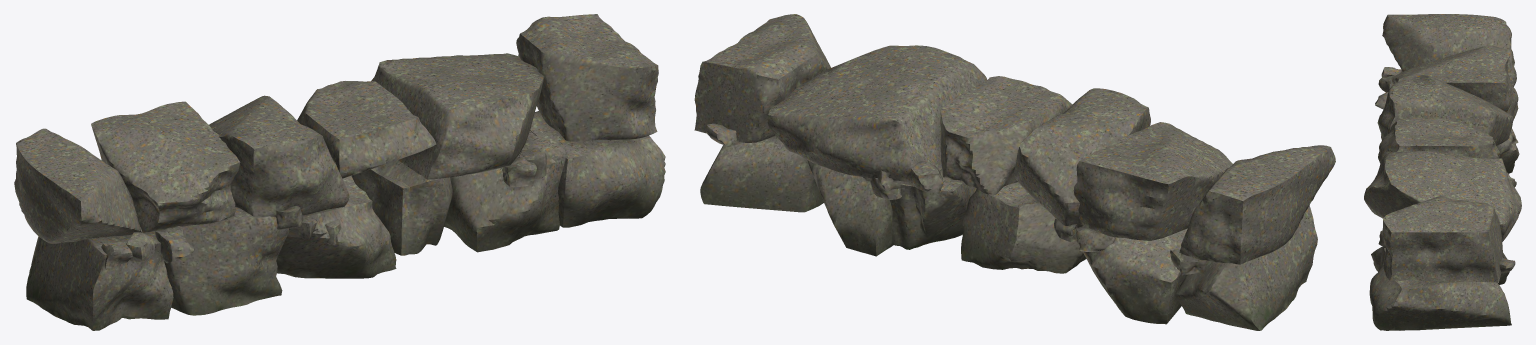
Rendered from foundation_2m.glb.
3 views of the same model, side by side, from view 1: azimuth 30°, elevation 25°; view 2: azimuth 150°, elevation 25°; view 3: azimuth 270°, elevation 25° (orthographic). The views are drawn at different scales.
Parts seen in each view (by area): view 1: foundation_2m; view 2: foundation_2m; view 3: foundation_2m.
Boxes of the visible parts, bbox=[...] form: foundation_2m: bbox=[14, 14, 665, 330]; foundation_2m: bbox=[694, 14, 1335, 330]; foundation_2m: bbox=[1364, 14, 1521, 330].
Bounding box in the file's own units: 2.06 × 0.5202 × 0.6338.
1 material, 1 textured.
